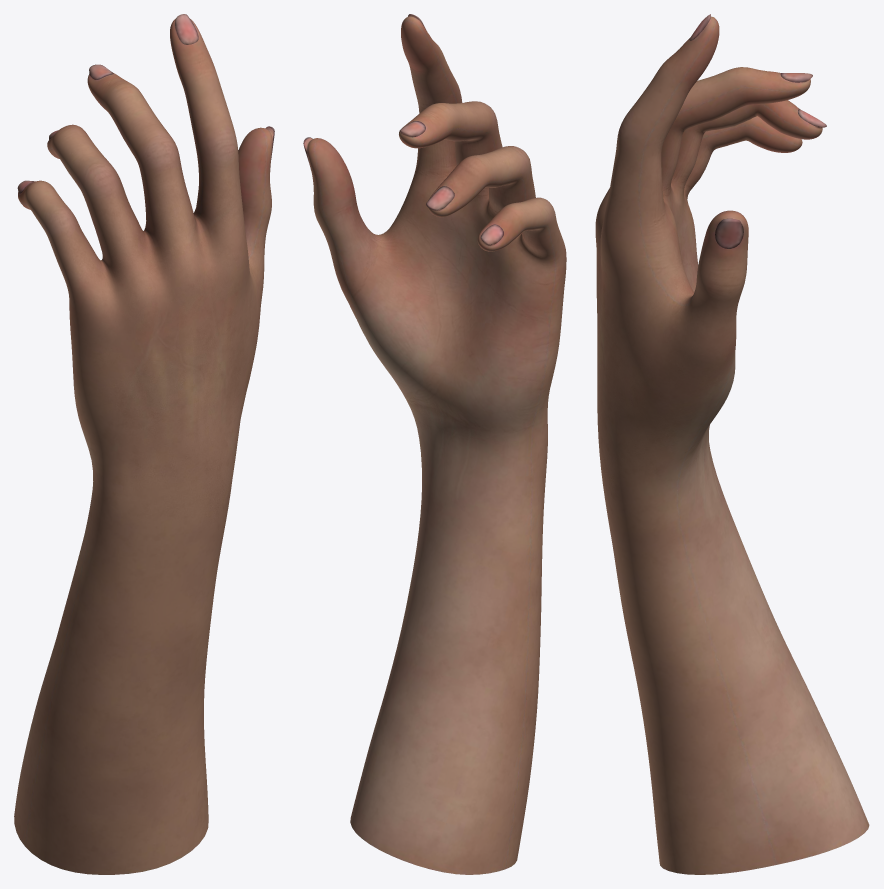
The model's file is hand.glb.
3 renders of one model, left to right at view 1: azimuth 30°, elevation 25°; view 2: azimuth 150°, elevation 25°; view 3: azimuth 270°, elevation 25°, orthographic. The views are drawn at different scales.
Parts seen in each view (by area): view 1: HandSkin, HandNails; view 2: HandSkin, HandNails; view 3: HandSkin, HandNails.
Boxes of the visible parts, box(x1,y1,x2,y2) form: HandSkin: box(14, 19, 273, 874); HandNails: box(17, 14, 274, 193); HandSkin: box(304, 15, 566, 874); HandNails: box(303, 14, 503, 244); HandSkin: box(595, 16, 869, 874); HandNails: box(689, 14, 826, 248).
Bounding box in the file's own units: 0.0968 × 0.3219 × 0.0912.
2 materials, 2 textured.
